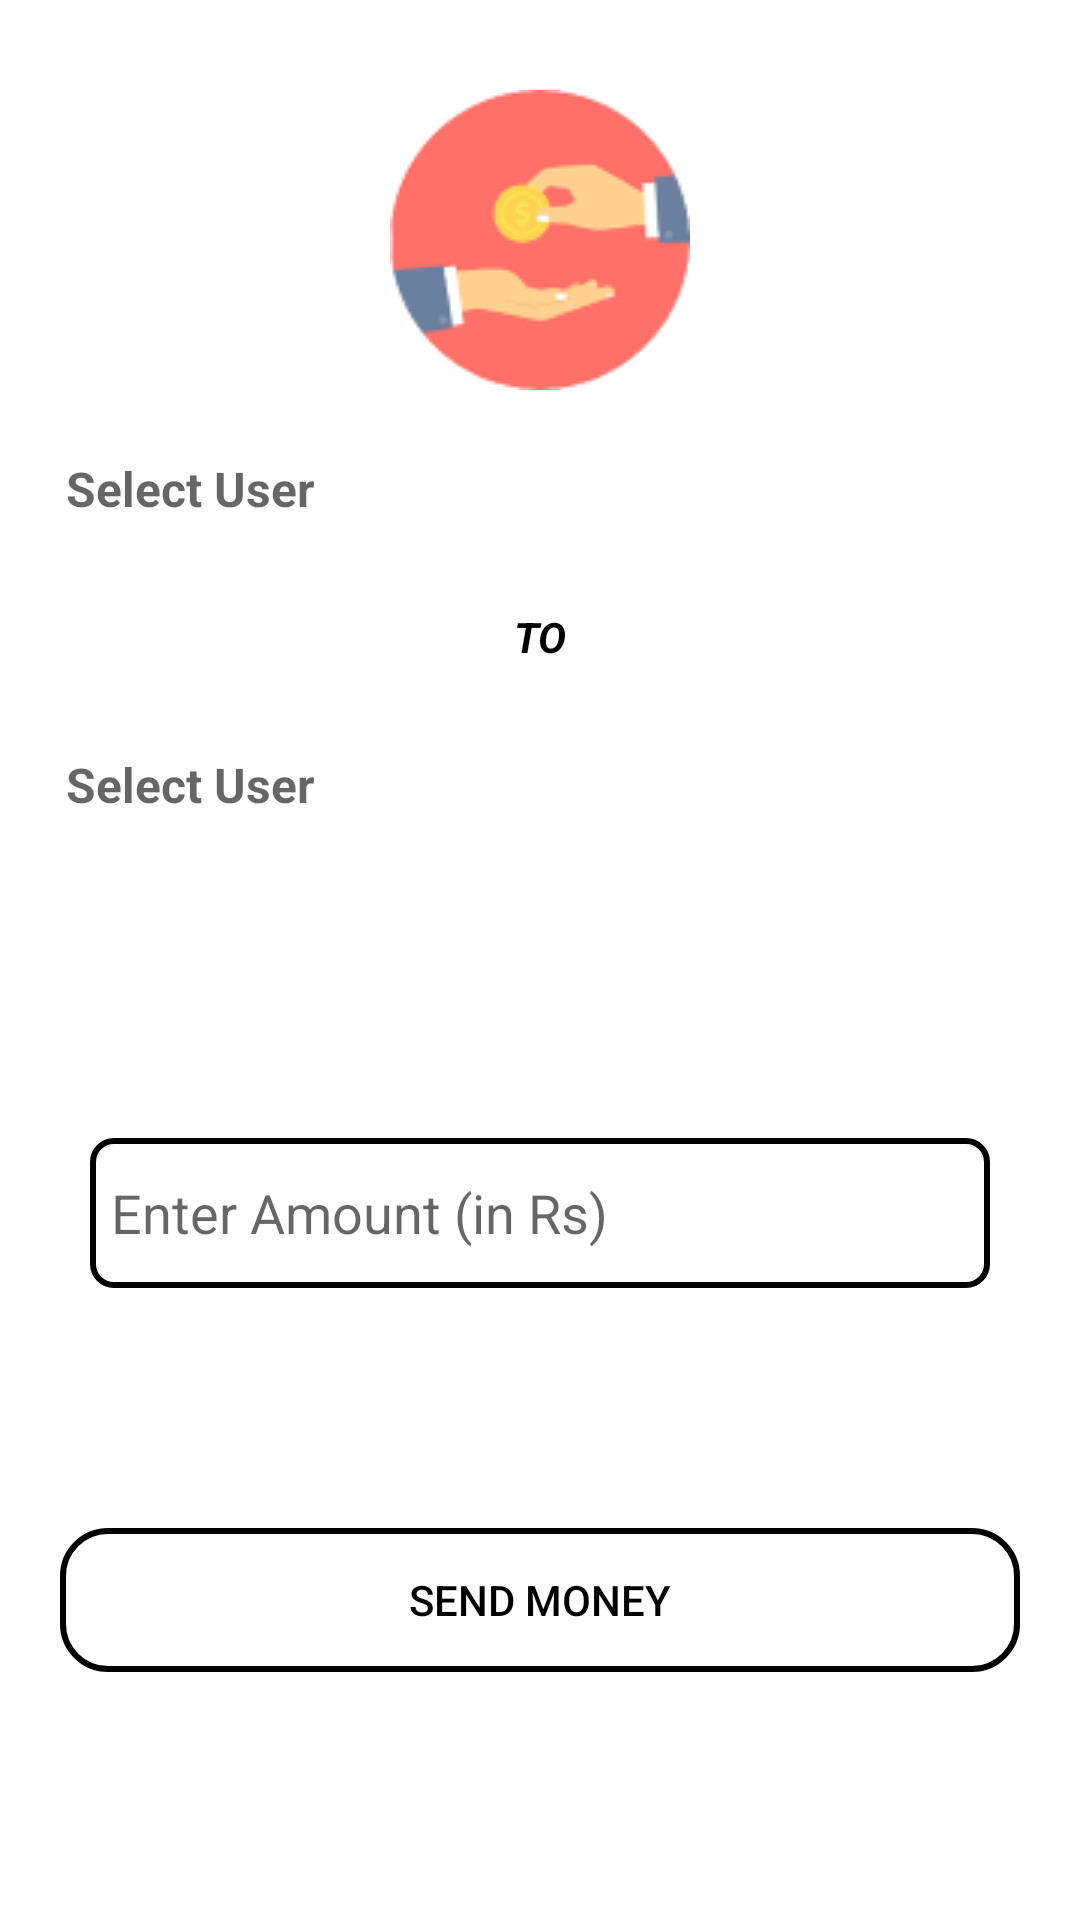

Where to tap for icons on this 1080 × 1920 app screen, as (x=x, y=y):
transaction icon: (x=540, y=240)
